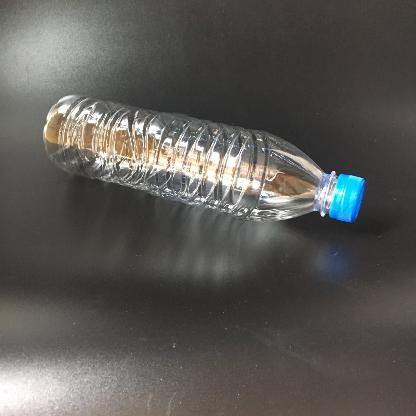Plastic Bottle: (42, 93, 366, 224)
